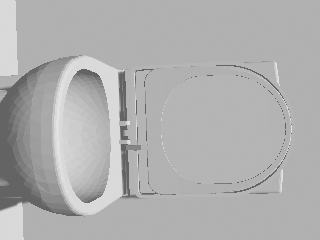lid_1: (125, 64, 294, 198)
